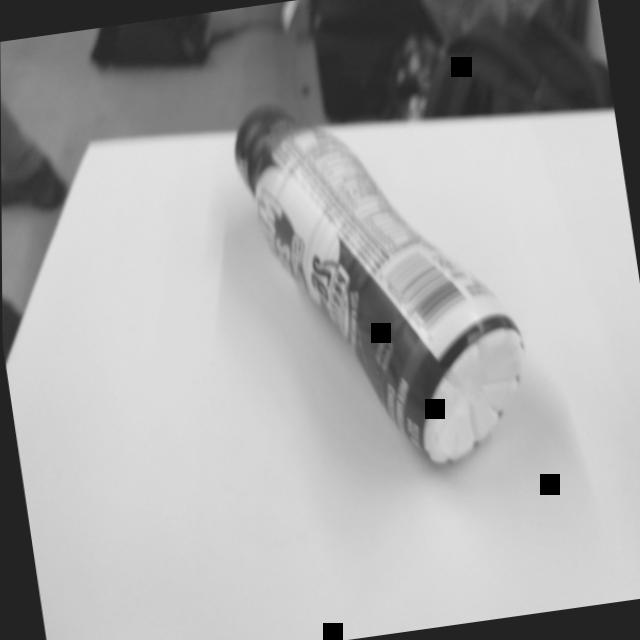chocolate_drink: (217, 69, 546, 497)
